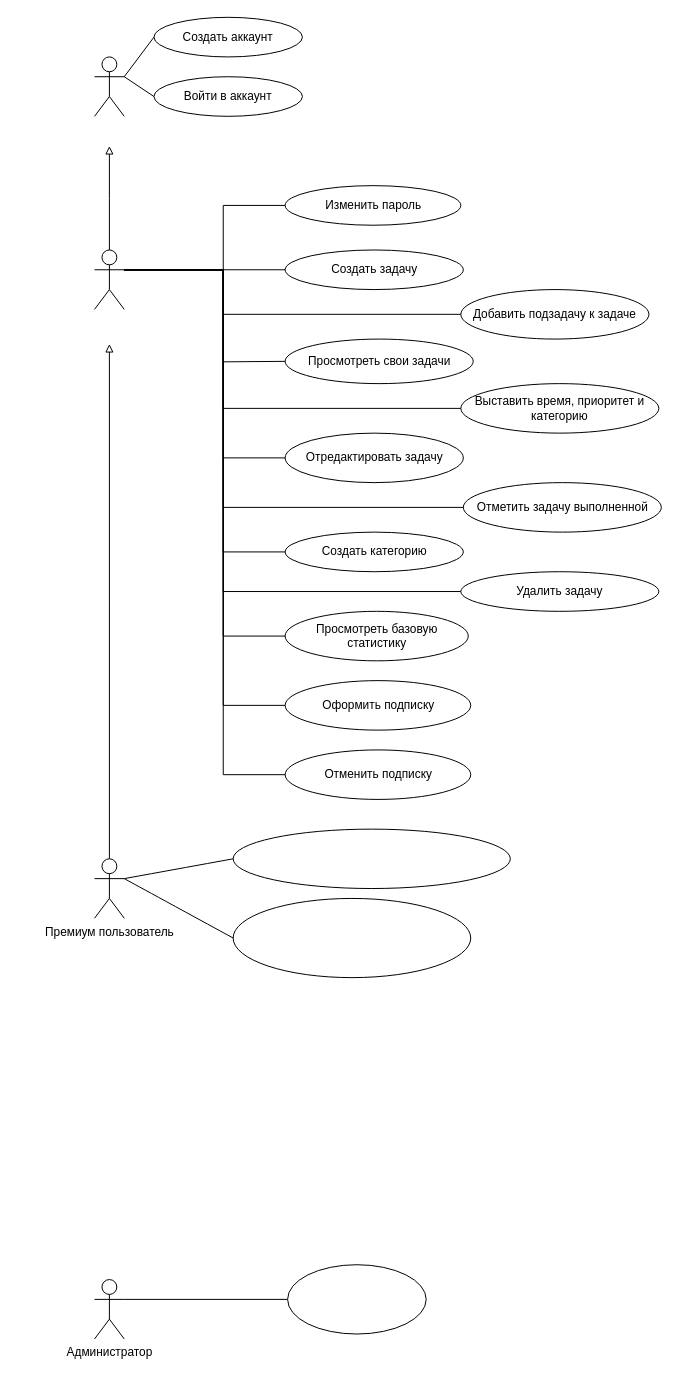
The diagram is 678 pixels wide and 1377 high, and some of its shapes have lost their labels. The shapes that lost their labels are listed below. From the top down, each one's box as (x1, y1, x2, y2) in pixels, then its label:
(94, 56, 124, 116): Неавторизованный пользователь
(94, 249, 124, 309): Авторизованный пользователь
(232, 828, 510, 889): Получить добавление подзадачи к задаче автоматически
(232, 897, 471, 978): Получить определения времени, категории и приоритета задачи автоматически
(287, 1264, 426, 1334): Просмотреть статистику по общему количеству пользователей
